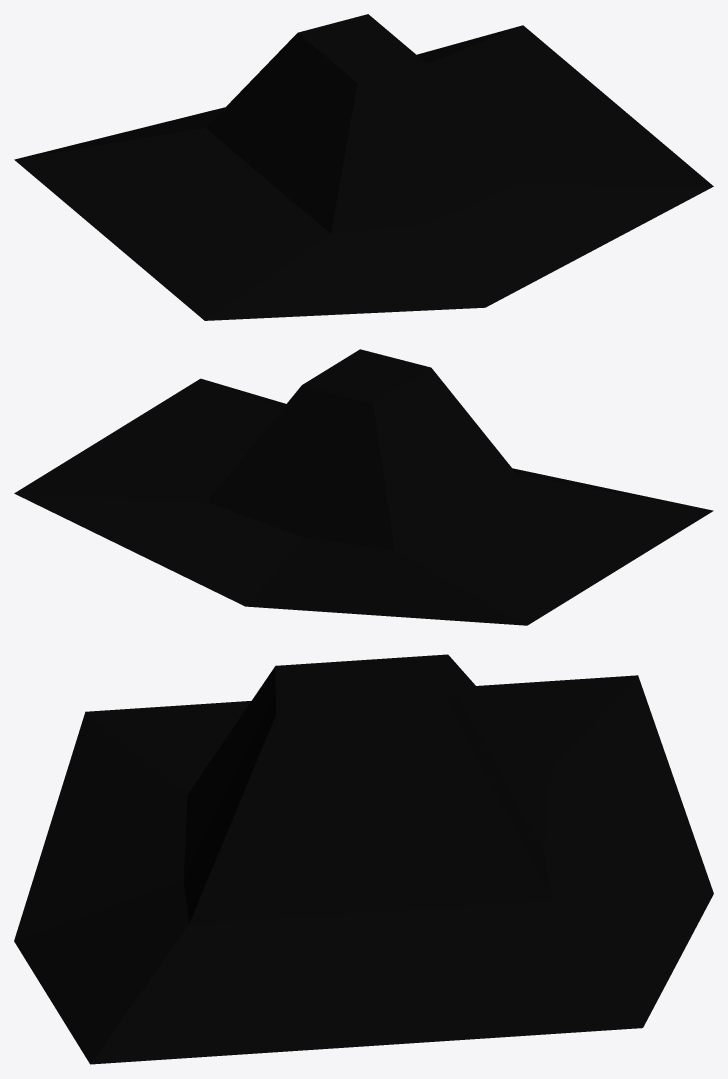
Rendered from hat.fbx.
3 renders of one model, top to bottom at view 1: azimuth 30°, elevation 25°; view 2: azimuth 150°, elevation 25°; view 3: azimuth 270°, elevation 25°, orthographic. The views are drawn at different scales.
Parts seen in each view (by area): view 1: hat; view 2: hat; view 3: hat.
Boxes of the visible parts, bbox=[...] form: hat: bbox=[14, 14, 713, 320]; hat: bbox=[14, 349, 713, 625]; hat: bbox=[14, 654, 713, 1064].
Size of the model in its own units: 43.89 by 14.51 by 35.39.
